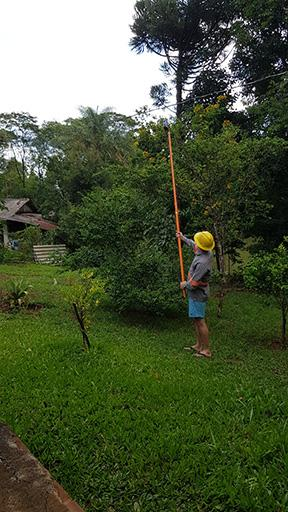Capacete: (192, 229, 216, 252)
Vara_Manobra: (166, 131, 186, 297)
